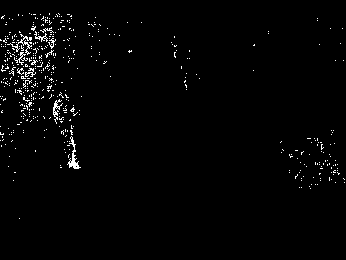person: (52, 92, 82, 172)
